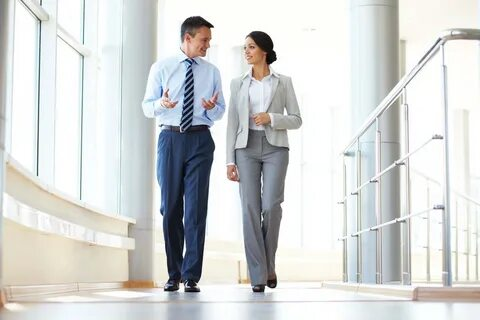awake: (143, 16, 224, 293), (225, 30, 302, 294)
